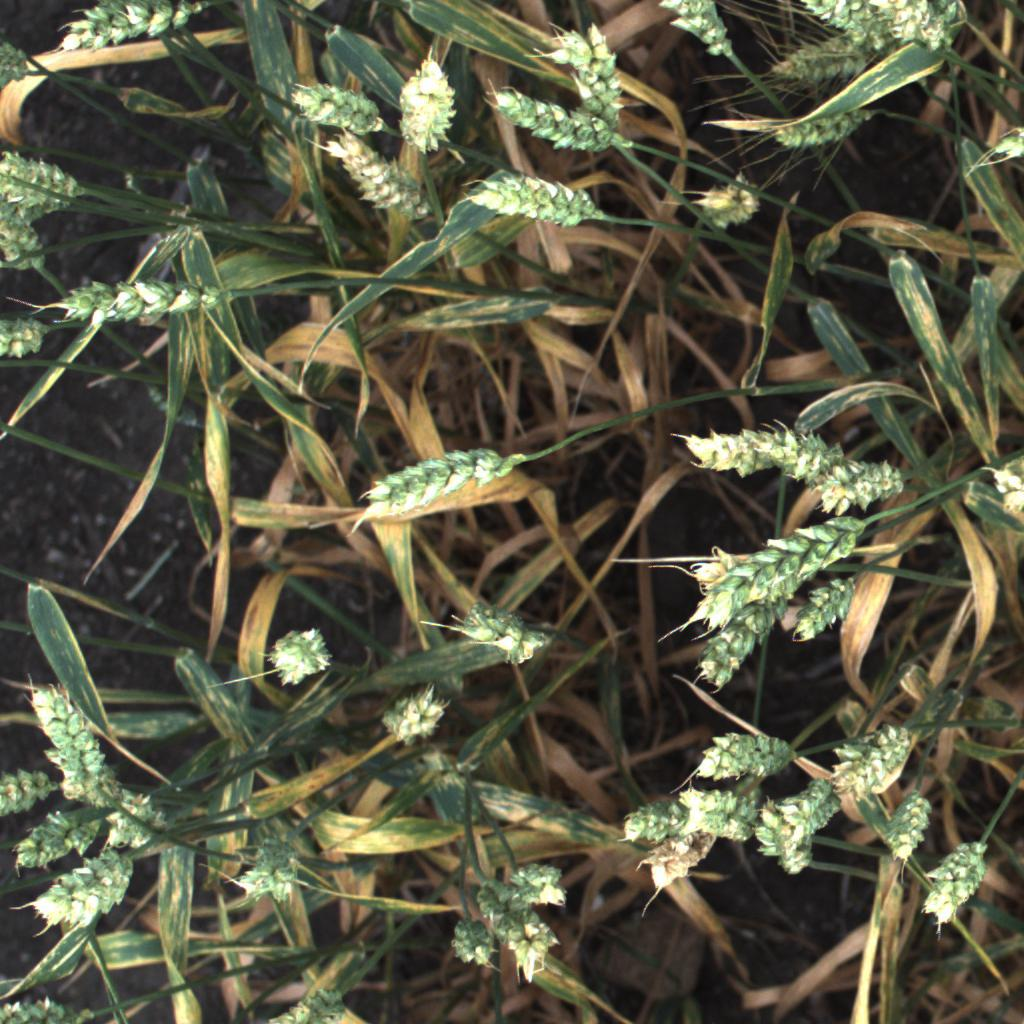0-0: (665, 501, 889, 640), (686, 550, 824, 698), (353, 424, 527, 537), (317, 123, 445, 229), (22, 673, 130, 798), (481, 77, 631, 163), (19, 843, 149, 935), (528, 16, 635, 126), (467, 876, 568, 987), (762, 753, 873, 846), (47, 0, 200, 66), (611, 779, 764, 841), (820, 721, 926, 809), (676, 419, 824, 481), (678, 719, 808, 786), (5, 799, 118, 875), (272, 73, 402, 139), (48, 275, 222, 323), (445, 597, 557, 671), (465, 170, 603, 229), (916, 831, 997, 929), (390, 47, 457, 159), (0, 142, 91, 222), (223, 837, 318, 909), (787, 572, 865, 653), (760, 36, 883, 85), (869, 0, 970, 58), (781, 442, 904, 488), (680, 172, 772, 233), (758, 795, 824, 879), (788, 0, 898, 48), (878, 784, 940, 868), (983, 434, 1024, 561), (0, 193, 56, 284), (649, 0, 740, 54), (810, 475, 924, 518), (500, 851, 577, 913), (643, 826, 715, 891), (260, 979, 355, 1024), (385, 682, 452, 745), (442, 911, 501, 980), (672, 773, 762, 818), (270, 627, 335, 684), (775, 109, 879, 144), (0, 984, 89, 1024), (0, 765, 63, 819), (0, 308, 56, 361), (108, 799, 166, 846)
